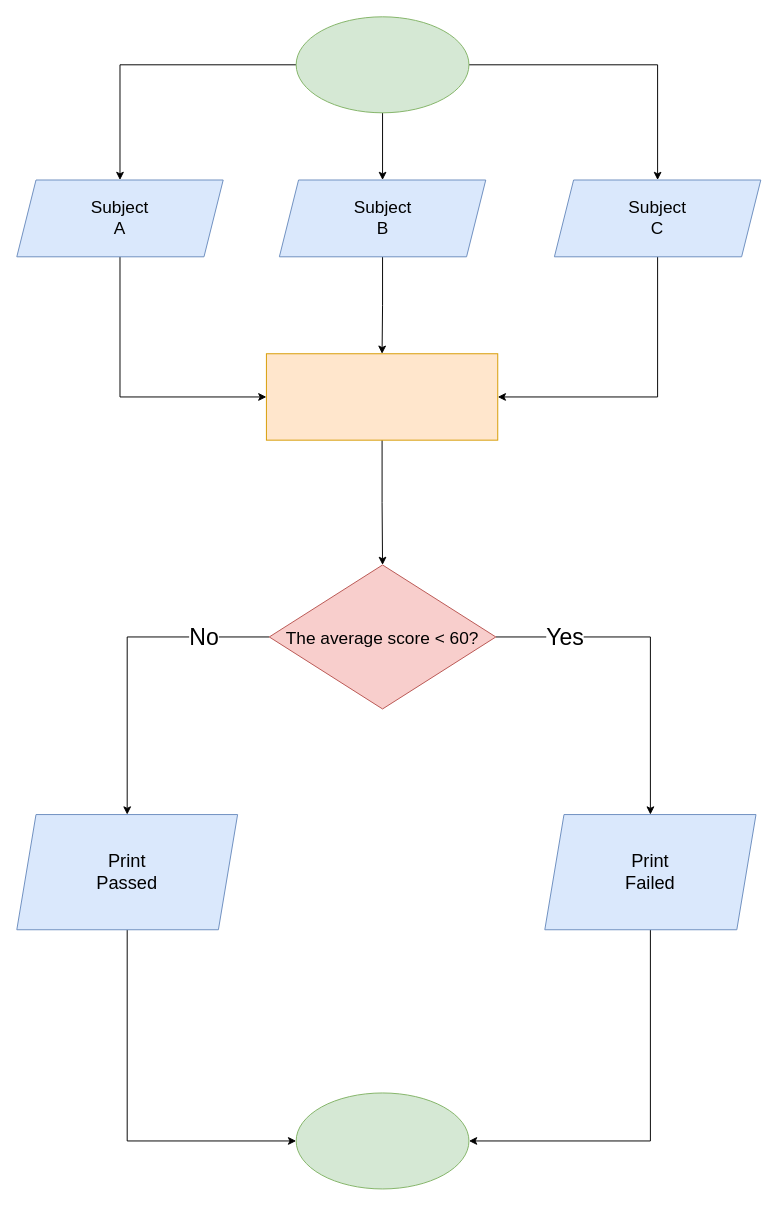
Some shapes in this 778 by 1206 pixel diagram are drawn without their labels. The centre of each missing label's shape, as x and y in pixels:
End: the point at 382,1140
Start: the point at 382,64
The average score of subjects (A+B+C) / 3: the point at 381,396
